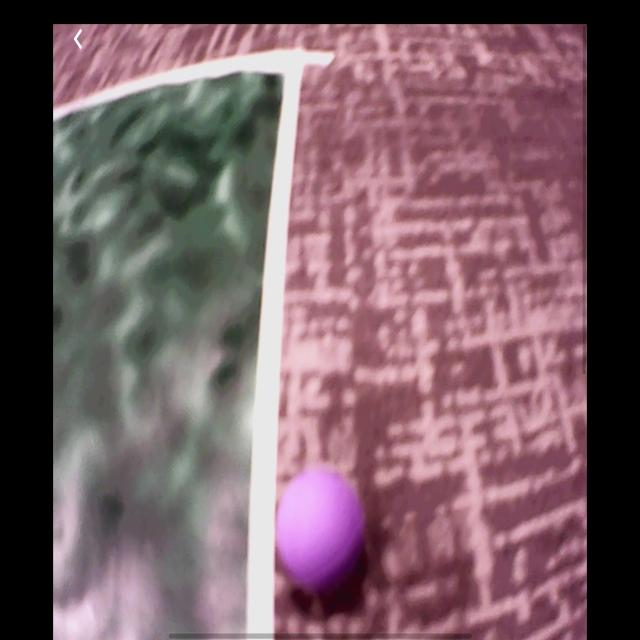ball: (276, 463, 369, 601)
